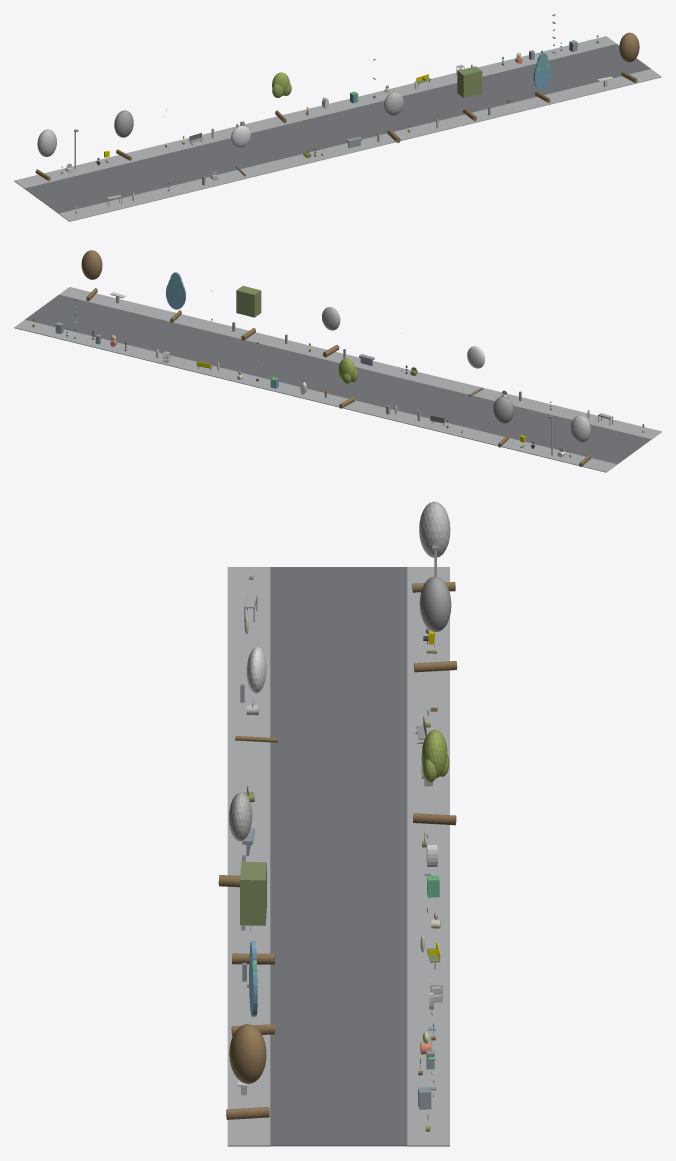
3 renders of one model, top to bottom at view 1: azimuth 30°, elevation 25°; view 2: azimuth 150°, elevation 25°; view 3: azimuth 270°, elevation 25°, orthographic. The views are drawn at different scales.
Visible parts, largest first — view 1: road_slab, sidewalk_left, sidewalk_right, inst_0023, inst_0024, inst_0025, inst_0018, inst_0019, inst_0021, inst_0022, inst_0020; view 2: road_slab, sidewalk_right, sidewalk_left, inst_0023, inst_0024, inst_0025, inst_0019, inst_0018, inst_0021, inst_0022, inst_0020; view 3: road_slab, sidewalk_right, sidewalk_left, inst_0025, inst_0023, inst_0019, inst_0021, inst_0018, inst_0022, inst_0020.
Boxes of the visible parts, bbox=[...] form: road_slab: bbox=[24, 44, 650, 213]; sidewalk_left: bbox=[59, 69, 661, 221]; sidewalk_right: bbox=[14, 36, 616, 188]; inst_0023: bbox=[457, 66, 482, 121]; inst_0024: bbox=[533, 52, 551, 103]; inst_0025: bbox=[619, 32, 639, 83]; inst_0018: bbox=[35, 129, 56, 180]; inst_0019: bbox=[114, 110, 133, 160]; inst_0021: bbox=[272, 72, 291, 123]; inst_0022: bbox=[384, 92, 403, 142]; inst_0020: bbox=[231, 125, 250, 176]; road_slab: bbox=[25, 295, 650, 464]; sidewalk_right: bbox=[14, 320, 616, 472]; sidewalk_left: bbox=[59, 287, 661, 439]; inst_0023: bbox=[236, 286, 261, 340]; inst_0024: bbox=[165, 272, 186, 322]; inst_0025: bbox=[81, 250, 102, 301]; inst_0019: bbox=[493, 396, 513, 447]; inst_0018: bbox=[570, 415, 591, 466]; inst_0021: bbox=[338, 358, 357, 408]; inst_0022: bbox=[322, 307, 340, 357]; inst_0020: bbox=[467, 346, 484, 396]; road_slab: bbox=[270, 567, 407, 1146]; sidewalk_right: bbox=[407, 567, 449, 1146]; sidewalk_left: bbox=[227, 567, 270, 1146]; inst_0025: bbox=[226, 1024, 269, 1119]; inst_0023: bbox=[232, 862, 274, 964]; inst_0019: bbox=[414, 576, 457, 672]; inst_0021: bbox=[413, 729, 456, 825]; inst_0018: bbox=[412, 501, 455, 592]; inst_0022: bbox=[218, 792, 252, 887]; inst_0020: bbox=[235, 647, 277, 742].
Bounding box in the file's own units: 80 × 6.08 × 13.94.
